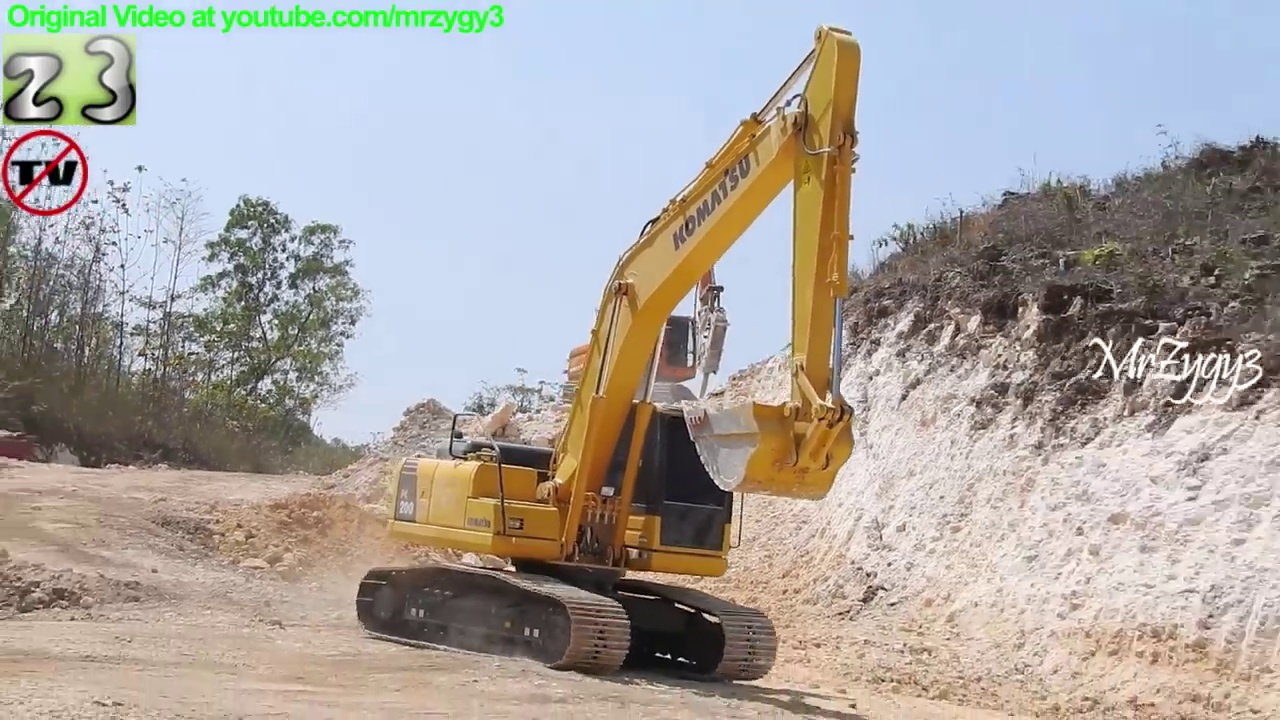excavator: (353, 19, 868, 683), (558, 200, 736, 424)
